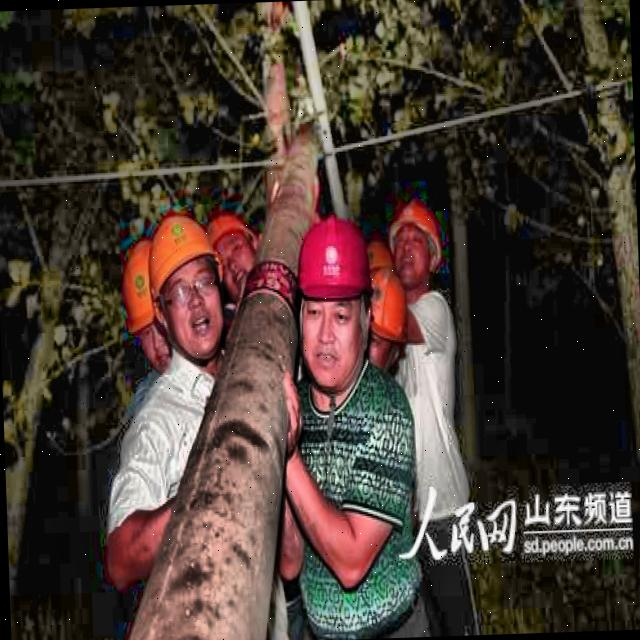helmet: (292, 214, 378, 374), (148, 207, 230, 369), (122, 238, 174, 372), (363, 266, 415, 379), (386, 198, 444, 294), (204, 215, 258, 298)
